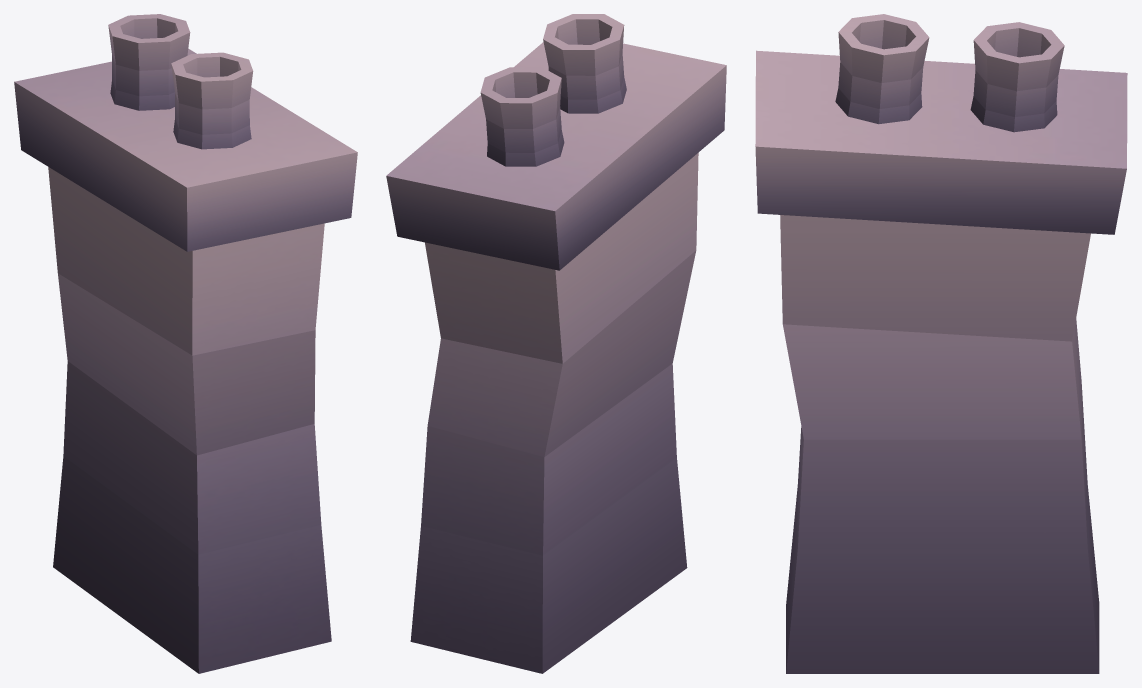
The model's file is Chimney 3.fbx.
The picture shows the model from 3 angles, left to right: view 1: azimuth 30°, elevation 25°; view 2: azimuth 150°, elevation 25°; view 3: azimuth 270°, elevation 25°; orthographic projection. The views are drawn at different scales.
Visible parts, largest first — view 1: Chimney 3; view 2: Chimney 3; view 3: Chimney 3.
Boxes of the visible parts, bbox=[...] form: Chimney 3: bbox=[14, 14, 357, 673]; Chimney 3: bbox=[386, 14, 726, 673]; Chimney 3: bbox=[755, 14, 1127, 673].
Size of the model in its own units: 64.19 by 202 by 113.
